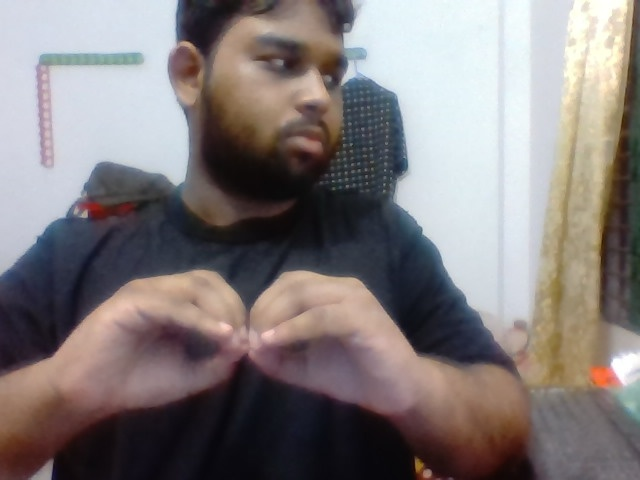B: (83, 258, 422, 435)
